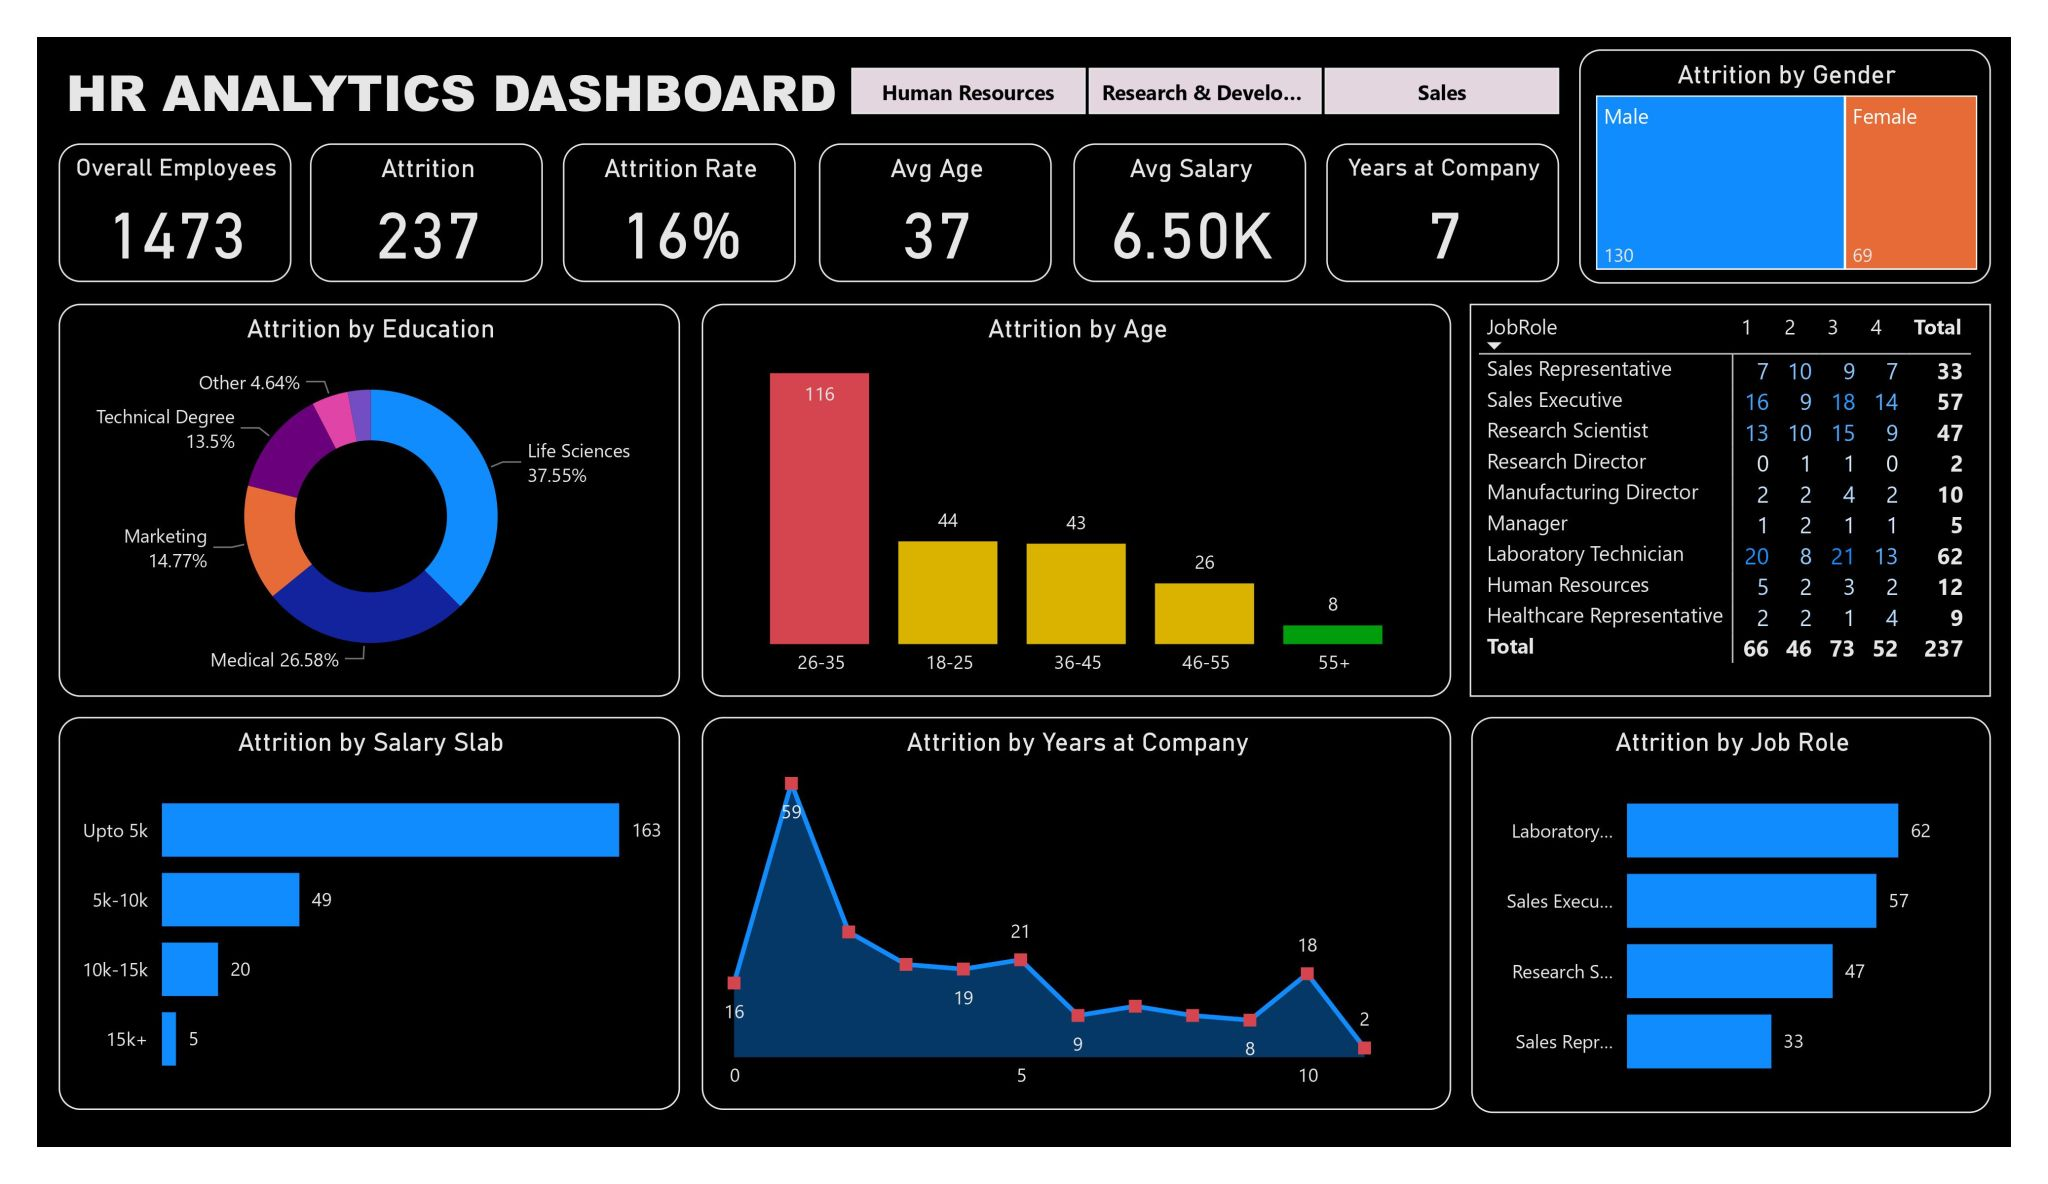

This screenshot's page, from the dashboard's own definition file:
{"tool":"powerbi","page":{"name":"Page 1","canvas":[1280,720],"ordinal":0},"visuals":[{"type":"card","title":"Overall Employees","fields":{"Values":["Sum(HR_Analytics.EmployeeCount)"]},"box":[13.7,68.6,150.8,90.5],"z":0},{"type":"card","title":"Attrition","fields":{"Values":["Sum(HR_Analytics.AttritionCount)"]},"box":[176.9,68.6,150.8,90.5],"z":1000},{"type":"card","title":"Attrition Rate","fields":{"Values":["HR_Analytics.AttritionRate"]},"box":[341.4,68.6,150.8,90.5],"z":2000},{"type":"card","title":"Avg Age","fields":{"Values":["Avg(HR_Analytics.Age)"]},"box":[507.3,68.6,150.8,90.5],"z":3000},{"type":"card","title":"Avg Salary","fields":{"Values":["Avg(HR_Analytics.MonthlyIncome)"]},"box":[671.8,68.6,150.8,90.5],"z":4000},{"type":"card","title":"Years at Company","fields":{"Values":["Avg(HR_Analytics.YearsAtCompany)"]},"box":[836.3,68.6,150.8,90.5],"z":5000},{"type":"textbox","box":[13.6,8.1,519.4,61],"z":6000},{"type":"donutChart","title":"Attrition by Education","fields":{"Category":["HR_Analytics.EducationField"],"Y":["Sum(HR_Analytics.AttritionCount)"]},"box":[13.7,172.8,403.1,255],"z":7000},{"type":"columnChart","title":"Attrition by Age","fields":{"Y":["Sum(HR_Analytics.AttritionCount)"],"Category":["HR_Analytics.AgeGroup"]},"box":[431,172.9,486,255.3],"z":8000},{"type":"clusteredBarChart","title":"Attrition by Salary Slab","fields":{"Category":["HR_Analytics.SalarySlab"],"Y":["Sum(HR_Analytics.AttritionCount)"]},"box":[13.7,441.5,403.1,255],"z":9000},{"type":"areaChart","title":"Attrition by Years at Company","fields":{"Category":["HR_Analytics.YearsAtCompany"],"Y":["Sum(HR_Analytics.AttritionCount)"]},"box":[430.5,441.5,486,255],"z":10000},{"type":"pivotTable","fields":{"Rows":["HR_Analytics.JobRole"],"Columns":["HR_Analytics.JobSatisfaction"],"Values":["Sum(HR_Analytics.AttritionCount)"]},"box":[929.2,172.9,337.6,255.3],"z":11000},{"type":"barChart","title":"Attrition by Job Role","fields":{"Category":["HR_Analytics.JobRole"],"Y":["Sum(HR_Analytics.AttritionCount)"]},"box":[929.6,441.5,337.3,256.4],"z":12000},{"type":"treemap","title":"Attrition by Gender","fields":{"Group":["HR_Analytics.Gender"],"Values":["Sum(HR_Analytics.AttritionCount)"]},"box":[1000,8.1,267,151.8],"z":13000},{"type":"slicer","fields":{"Values":["HR_Analytics.Department"]},"box":[502,13,509,44],"z":14000}]}

Visuals, with their boxes in screenshot pixels (x1, y1, x2, y2), scaled from the page's 1280x720 canvas onto the 2048x1184 screenshot:
"Overall Employees" card: <box>22,113,263,262</box>
"Attrition" card: <box>283,113,524,262</box>
"Attrition Rate" card: <box>546,113,788,262</box>
"Avg Age" card: <box>812,113,1053,262</box>
"Avg Salary" card: <box>1075,113,1316,262</box>
"Years at Company" card: <box>1338,113,1579,262</box>
textbox: <box>22,13,853,114</box>
"Attrition by Education" donutChart: <box>22,284,667,703</box>
"Attrition by Age" columnChart: <box>690,284,1467,704</box>
"Attrition by Salary Slab" clusteredBarChart: <box>22,726,667,1145</box>
"Attrition by Years at Company" areaChart: <box>689,726,1466,1145</box>
pivotTable - HR_Analytics.JobRole x HR_Analytics.JobSatisfaction: <box>1487,284,2027,704</box>
"Attrition by Job Role" barChart: <box>1487,726,2027,1148</box>
"Attrition by Gender" treemap: <box>1600,13,2027,263</box>
slicer - HR_Analytics.Department: <box>803,21,1618,94</box>
